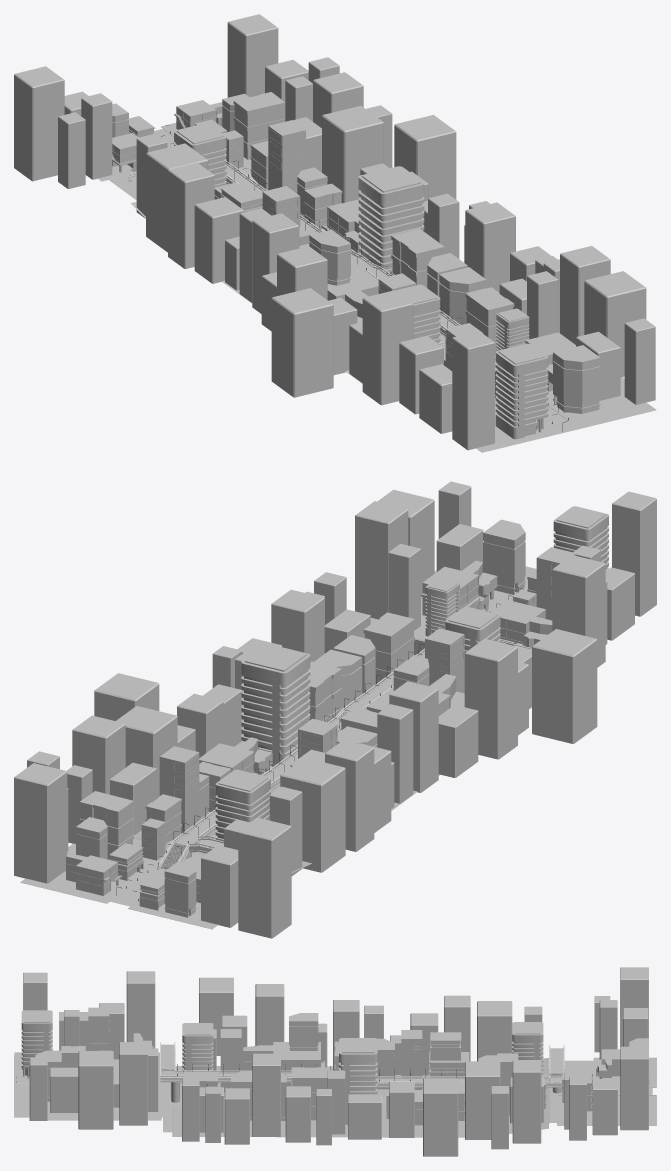
File: CourseC.fbx
The picture shows the model from 3 angles, top to bottom: view 1: azimuth 30°, elevation 25°; view 2: azimuth 150°, elevation 25°; view 3: azimuth 270°, elevation 25°; orthographic projection. The views are drawn at different scales.
Visible parts, largest first — view 1: Mob building_A.038, BuildingA.013, Mob building_B.027, Mob building_C.016, Mob building_B.021, BuildingA.016, Mob building_A.045, Mob building_A.047, Mob building_A.055, Mob building_B.025, Mob building_B.028, Mob building_B.023 (+51 smaller); view 2: Mob building_A.038, BuildingA.013, Mob building_B.027, Mob building_B.025, Mob building_B.022, Mob building_A.036, Mob building_B.029, Mob building_C.016, Mob building_B.021, Mob building_B.023, Road.003, Mob building_B.024 (+52 smaller); view 3: Road.003, Mob building_A.055, Mob building_A.047, Mob building_B.026, Mob building_B.025, Mob building_B.029, Mob building_B.028, Mob building_A.045, BuildingA.013, Mob building_B.021, Mob building_A.036, Stairs.006 (+56 smaller).
Boxes of the visible parts, x1=… form: Mob building_A.038: x1=271, y1=288, x2=333, y2=397; BuildingA.013: x1=358, y1=166, x2=424, y2=273; Mob building_B.027: x1=14, y1=66, x2=64, y2=181; Mob building_C.016: x1=452, y1=331, x2=494, y2=450; Mob building_B.021: x1=362, y1=290, x2=413, y2=405; BuildingA.016: x1=495, y1=343, x2=548, y2=439; Mob building_A.045: x1=322, y1=105, x2=383, y2=203; Mob building_A.047: x1=394, y1=115, x2=456, y2=199; Mob building_A.055: x1=584, y1=271, x2=646, y2=377; Mob building_B.025: x1=227, y1=14, x2=278, y2=97; Mob building_B.028: x1=465, y1=202, x2=515, y2=293; Mob building_B.023: x1=168, y1=162, x2=214, y2=268; Mob building_A.038: x1=532, y1=629, x2=597, y2=743; BuildingA.013: x1=241, y1=644, x2=310, y2=766; Mob building_B.027: x1=238, y1=818, x2=291, y2=938; Mob building_B.025: x1=14, y1=763, x2=67, y2=883; Mob building_B.022: x1=464, y1=638, x2=517, y2=759; Mob building_A.036: x1=280, y1=757, x2=345, y2=872; Mob building_B.029: x1=355, y1=501, x2=408, y2=619; Mob building_C.016: x1=612, y1=491, x2=656, y2=616; Mob building_B.021: x1=552, y1=555, x2=605, y2=667; Mob building_B.023: x1=325, y1=740, x2=374, y2=851; Road.003: x1=20, y1=570, x2=531, y2=929; Mob building_B.024: x1=389, y1=681, x2=438, y2=792; Road.003: x1=14, y1=1052, x2=656, y2=1137; Mob building_A.055: x1=78, y1=1051, x2=113, y2=1129; Mob building_A.047: x1=423, y1=1078, x2=458, y2=1156; Mob building_B.026: x1=512, y1=1060, x2=541, y2=1143; Mob building_B.025: x1=620, y1=1046, x2=648, y2=1130; Mob building_B.029: x1=119, y1=1042, x2=147, y2=1125; Mob building_B.028: x1=252, y1=1053, x2=280, y2=1136; Mob building_A.045: x1=465, y1=1061, x2=500, y2=1139; BuildingA.013: x1=339, y1=1038, x2=377, y2=1124; Mob building_B.021: x1=126, y1=971, x2=155, y2=1048; Mob building_A.036: x1=477, y1=1001, x2=512, y2=1061; Stairs.006: x1=14, y1=1055, x2=652, y2=1132.
Size of the model in its own units: 141 by 332 by 52.93.
